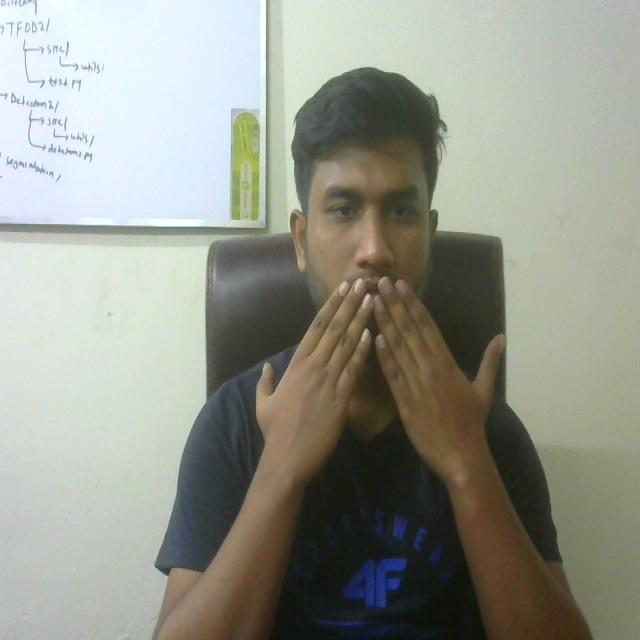Thanks: (247, 268, 519, 484)
